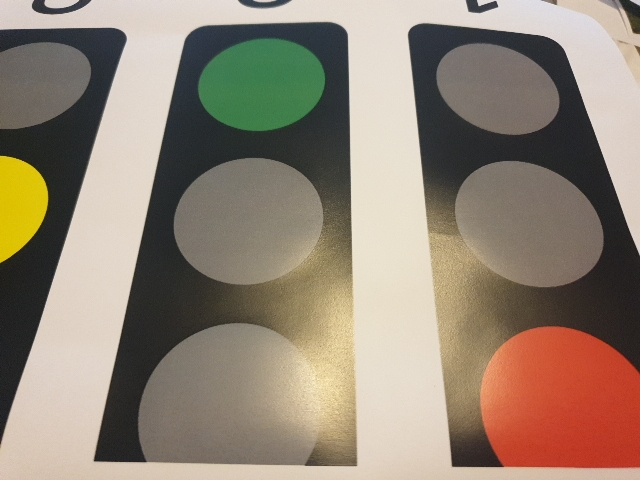green: (182, 25, 337, 456)
red: (416, 26, 630, 464)
